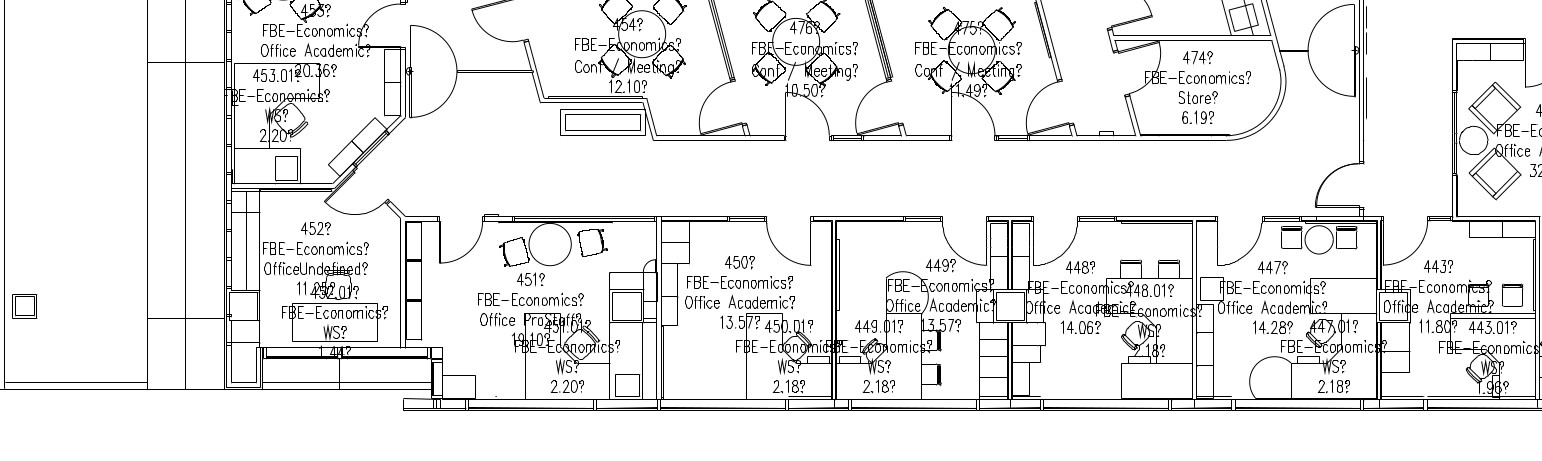door: (1112, 34, 1173, 101), (1307, 149, 1368, 216), (1208, 208, 1269, 275), (1027, 207, 1088, 274), (929, 205, 990, 272), (759, 205, 820, 272), (1377, 208, 1438, 275), (322, 164, 391, 220), (435, 216, 486, 268), (693, 86, 744, 138), (780, 91, 831, 143), (845, 84, 896, 136), (945, 88, 996, 140), (1020, 82, 1071, 134), (472, 1, 523, 52), (349, 1, 398, 51)
